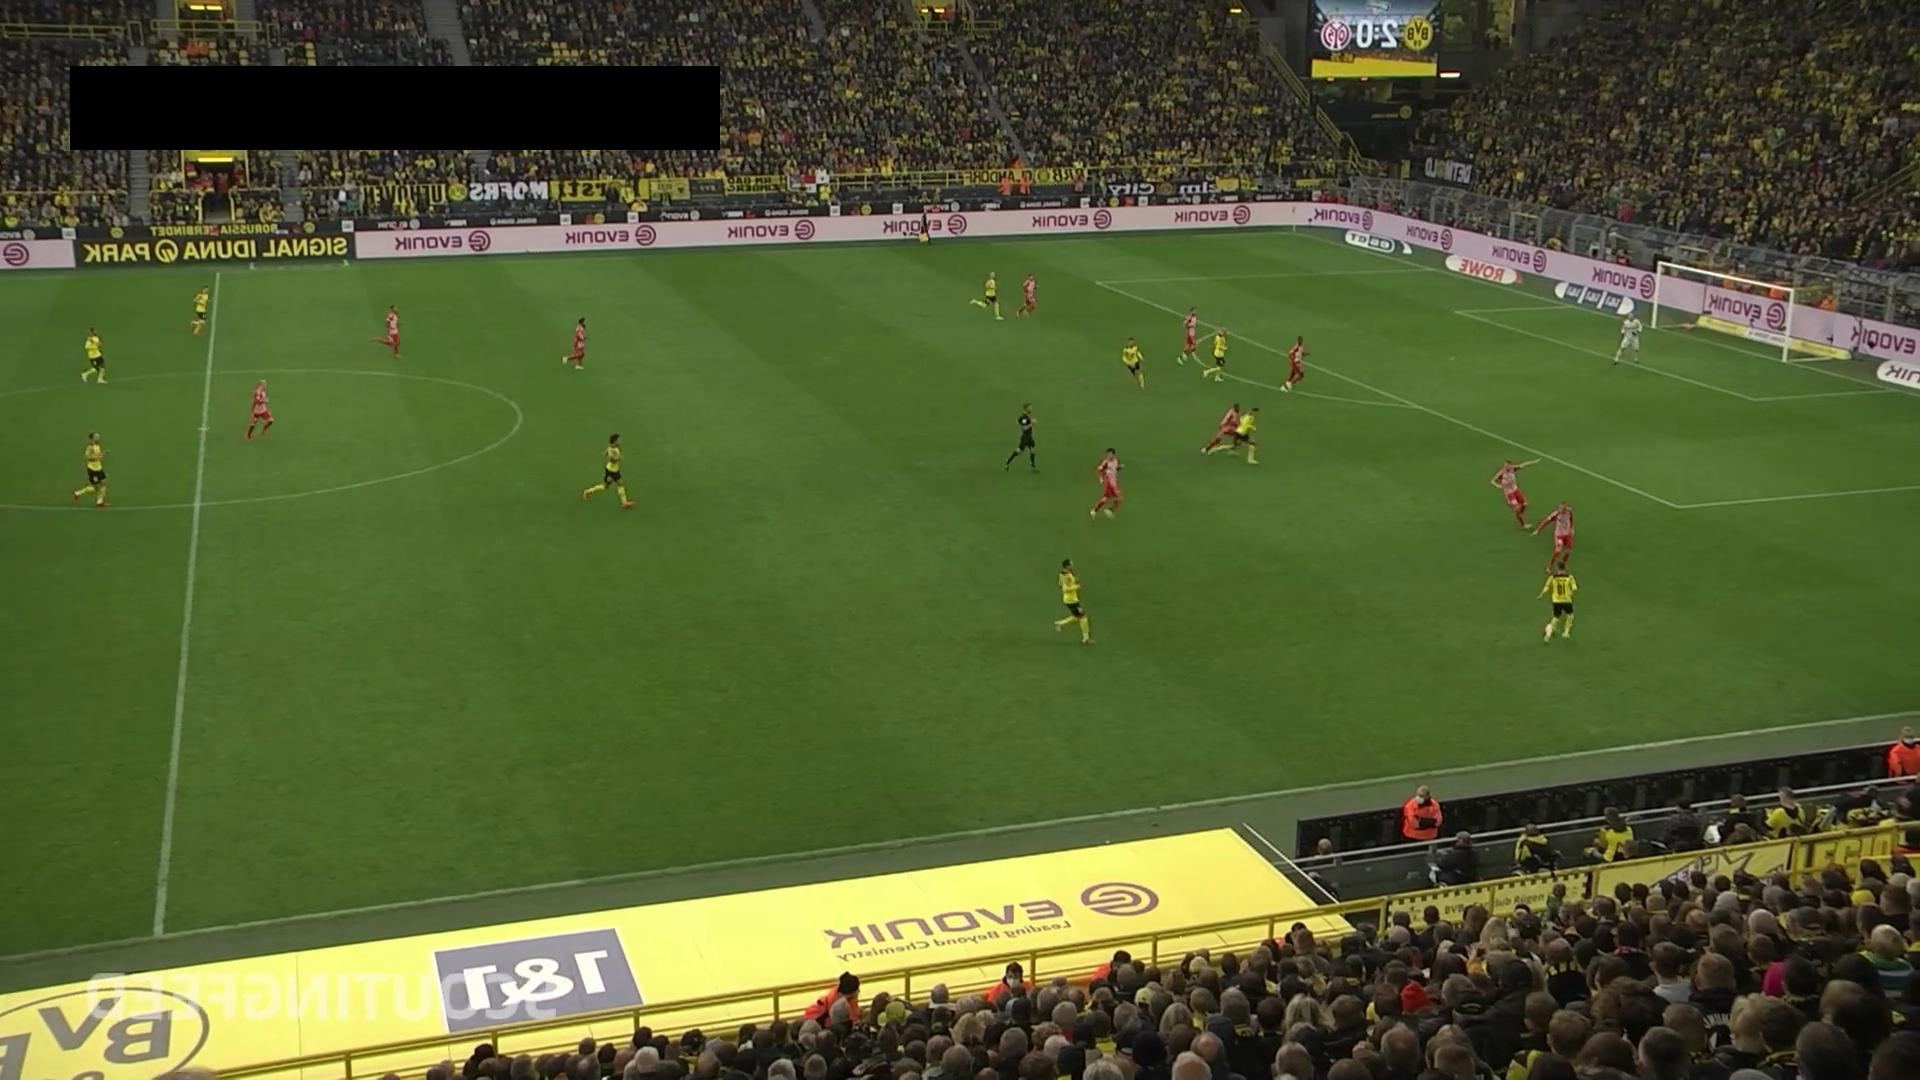ball: (1543, 623, 1557, 637)
goalkeeper: (1611, 314, 1641, 365)
player: (581, 434, 633, 509), (1058, 559, 1099, 646), (1539, 563, 1582, 644), (1531, 498, 1574, 570), (1493, 460, 1536, 529), (70, 432, 108, 507), (1092, 447, 1127, 521), (1202, 401, 1245, 458), (1228, 405, 1260, 465), (240, 379, 270, 440), (374, 306, 406, 361), (966, 270, 1001, 320), (1202, 330, 1231, 385), (1278, 335, 1306, 391), (81, 329, 107, 386), (561, 315, 586, 368), (1124, 336, 1148, 389), (1179, 307, 1199, 366), (187, 283, 207, 334), (1015, 274, 1037, 320)
referee: (1002, 404, 1038, 475), (918, 207, 936, 245)
